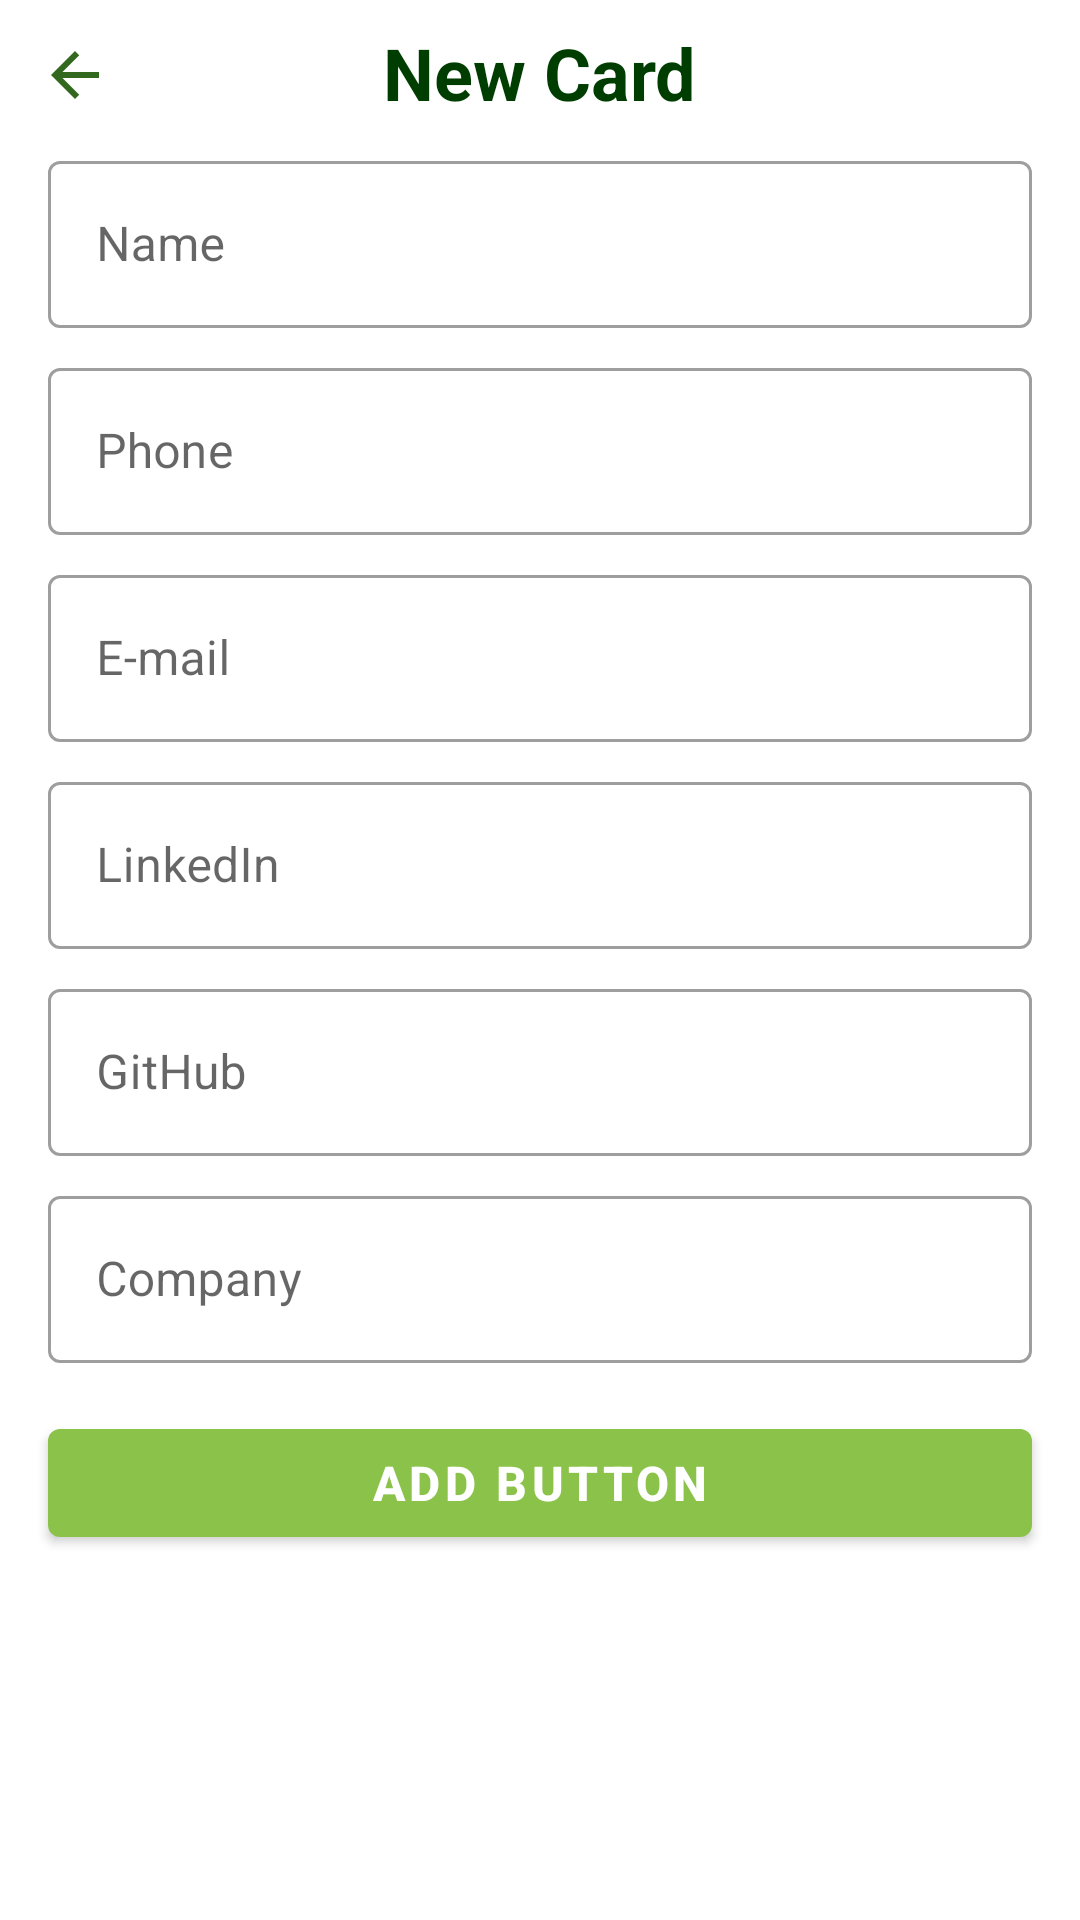

Icons on this 1080x1920 Android screen, each with the point to tap as (x,y):
Back: (75,75)
